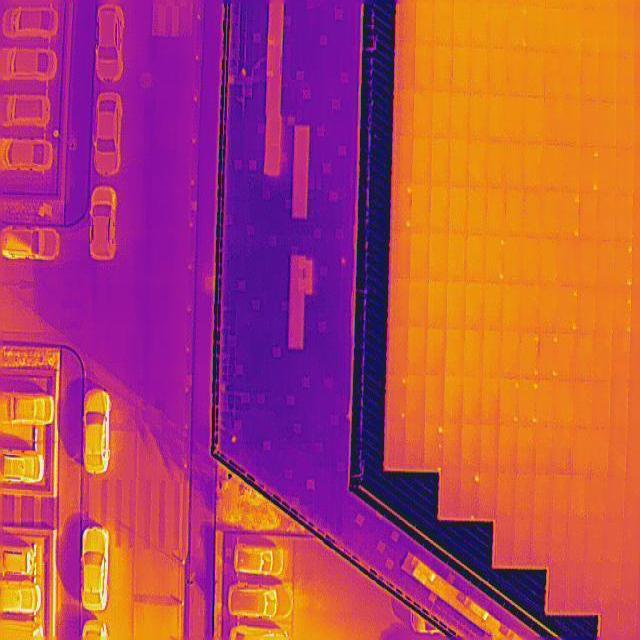Cell-Multi: (393, 182, 412, 232), (388, 375, 407, 425), (461, 472, 480, 522), (499, 378, 520, 423), (486, 232, 504, 284), (614, 239, 633, 286), (521, 330, 539, 379), (561, 190, 580, 236), (558, 286, 577, 332), (519, 379, 538, 425), (424, 424, 443, 470), (581, 146, 599, 192), (540, 332, 558, 376)
No-Anomaly: (465, 232, 487, 282), (503, 281, 524, 330), (444, 329, 465, 376), (490, 0, 510, 49), (480, 423, 500, 472), (433, 90, 453, 139), (426, 329, 447, 375), (505, 187, 525, 235), (502, 330, 522, 378), (593, 331, 613, 379), (424, 376, 444, 424), (463, 376, 483, 424), (461, 425, 481, 473), (602, 565, 622, 613), (396, 45, 416, 93), (489, 95, 509, 143), (543, 96, 563, 144), (449, 185, 468, 235), (448, 232, 467, 282), (389, 326, 408, 376), (541, 189, 561, 236), (508, 49, 528, 96), (468, 185, 487, 234), (509, 0, 528, 49), (485, 281, 504, 330), (444, 376, 463, 425), (412, 138, 432, 184), (542, 142, 562, 188), (540, 236, 560, 282), (545, 6, 565, 52), (428, 282, 448, 328), (607, 425, 627, 471), (499, 425, 519, 471), (532, 472, 552, 518), (495, 520, 515, 566), (583, 566, 603, 612), (546, 50, 566, 96), (453, 0, 472, 48), (391, 232, 410, 280), (428, 234, 447, 282), (505, 235, 524, 283), (595, 237, 614, 285), (466, 281, 485, 329), (483, 330, 502, 378), (528, 50, 547, 98), (470, 92, 489, 140), (507, 96, 526, 144), (412, 184, 430, 234), (481, 378, 501, 423), (386, 425, 406, 470), (553, 424, 571, 474), (605, 472, 623, 522), (451, 95, 471, 140), (410, 234, 429, 281), (522, 284, 541, 331), (464, 329, 483, 376), (406, 424, 425, 471), (490, 49, 509, 96), (599, 54, 618, 101), (414, 91, 433, 138), (524, 186, 542, 235), (447, 281, 465, 330), (588, 423, 606, 472), (518, 423, 536, 472), (601, 520, 622, 562), (472, 46, 490, 95), (571, 378, 591, 422), (532, 521, 552, 565), (394, 136, 413, 182), (468, 140, 487, 186), (449, 142, 468, 188), (616, 149, 635, 195), (598, 8, 617, 54), (586, 474, 605, 520), (565, 566, 584, 612), (524, 141, 542, 189), (431, 186, 449, 234), (523, 235, 541, 283), (560, 237, 578, 285), (578, 238, 596, 286), (617, 7, 635, 55), (541, 282, 559, 330), (408, 327, 426, 375), (612, 332, 630, 380), (480, 471, 498, 519), (431, 140, 450, 185), (435, 0, 454, 45), (443, 425, 462, 470), (513, 519, 531, 566), (415, 44, 433, 91), (581, 99, 599, 146), (615, 195, 634, 239), (390, 282, 409, 326), (408, 282, 427, 326), (591, 378, 610, 422), (442, 472, 461, 516), (434, 46, 453, 90), (395, 92, 414, 136), (525, 98, 544, 142), (536, 423, 553, 472), (571, 423, 588, 472), (616, 102, 634, 148), (488, 142, 506, 188), (506, 142, 524, 188), (562, 146, 580, 192), (487, 186, 505, 232), (597, 192, 615, 238), (472, 0, 490, 46), (595, 285, 613, 331), (613, 288, 631, 334), (575, 332, 593, 378), (407, 375, 425, 421), (514, 474, 532, 520), (550, 520, 568, 566), (549, 565, 567, 611), (454, 48, 472, 94), (498, 471, 515, 519), (582, 52, 599, 100), (618, 54, 635, 102), (397, 0, 415, 45), (416, 0, 435, 42), (577, 286, 595, 330), (599, 102, 617, 146), (599, 146, 616, 192), (580, 192, 597, 238), (529, 6, 546, 52), (558, 332, 575, 378), (611, 378, 628, 424), (567, 518, 584, 564), (564, 98, 581, 144), (555, 378, 572, 423), (564, 8, 582, 50), (582, 8, 599, 52), (538, 378, 555, 422), (569, 474, 586, 518), (585, 520, 602, 564), (553, 474, 569, 520), (565, 52, 581, 98)
